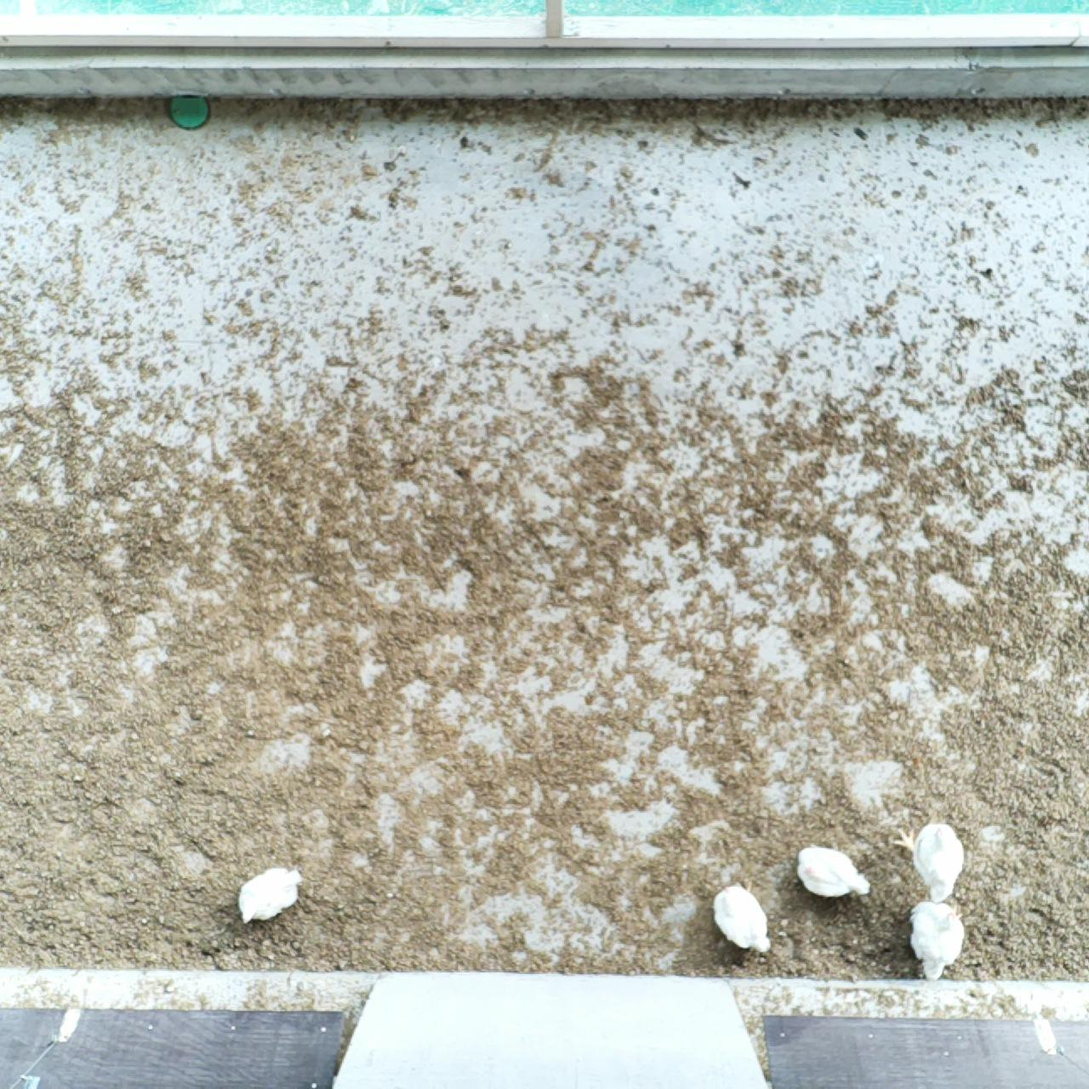chicken: (885, 815, 974, 906), (896, 893, 970, 988), (791, 840, 877, 905), (709, 878, 776, 959), (235, 858, 310, 925)
